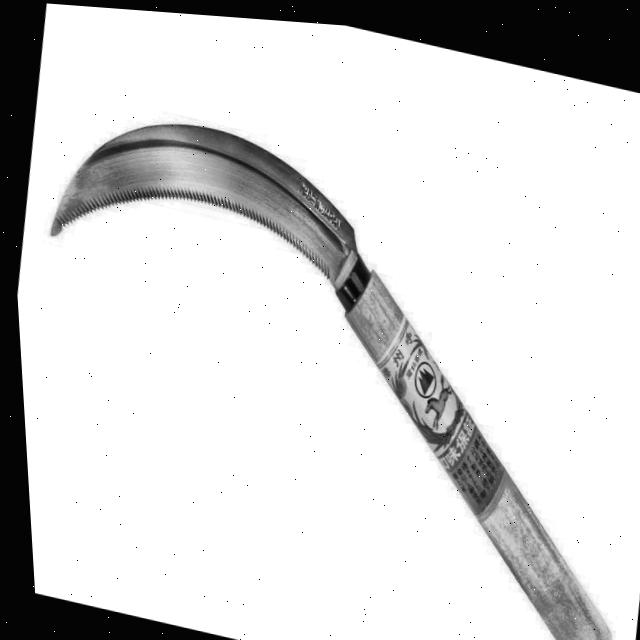celurit: (4, 68, 640, 640)
